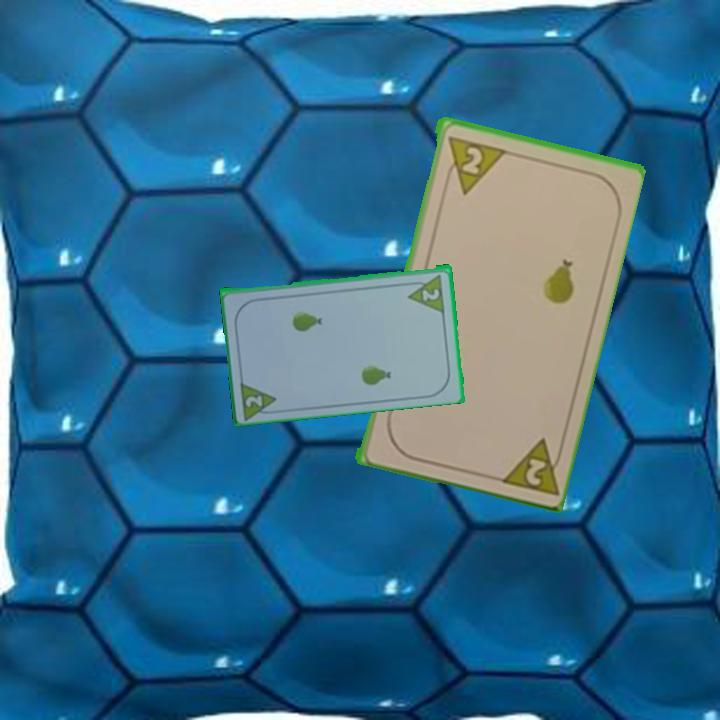2p: (493, 433, 567, 498), (442, 132, 506, 197), (419, 284, 443, 303), (242, 391, 266, 410)
